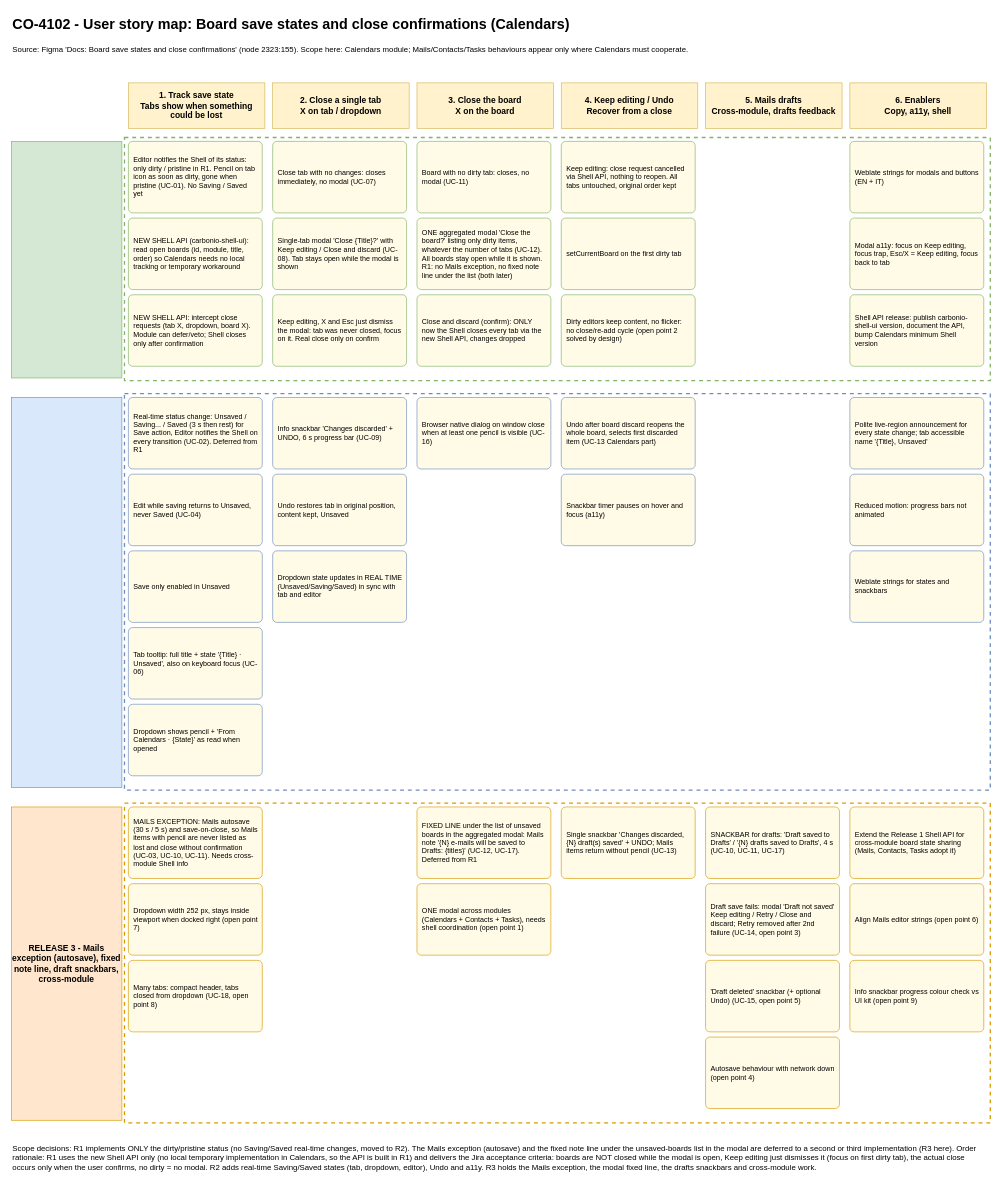
The diagram is 1002 pixels wide and 1190 high, and some of its shapes have lost their labels. The shapes that lost their labels are listed below. From the top down, each one's box as (x1, y1, x2, y2) in pixels, then its label:
(11, 141, 122, 378): RELEASE 1 - MVP (CO-4102 core)
(11, 397, 122, 787): RELEASE 2 - Real-time Saving/Saved states, Undo, a11y
